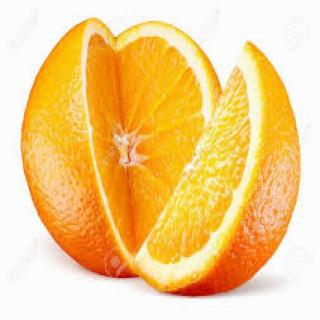orange: (21, 0, 228, 300), (128, 38, 308, 304)
